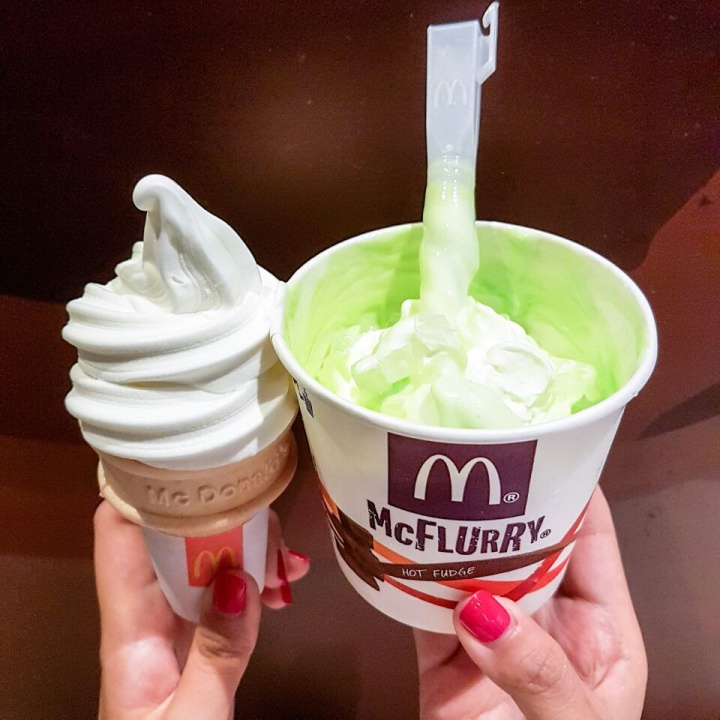mcdonalds: (401, 448, 506, 509)
